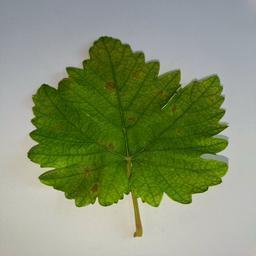Powdery-Mildew: (131, 63, 158, 88), (141, 187, 166, 207), (103, 78, 125, 98), (88, 178, 105, 195), (57, 155, 76, 169), (151, 87, 171, 100), (166, 102, 177, 114), (109, 138, 120, 149)
